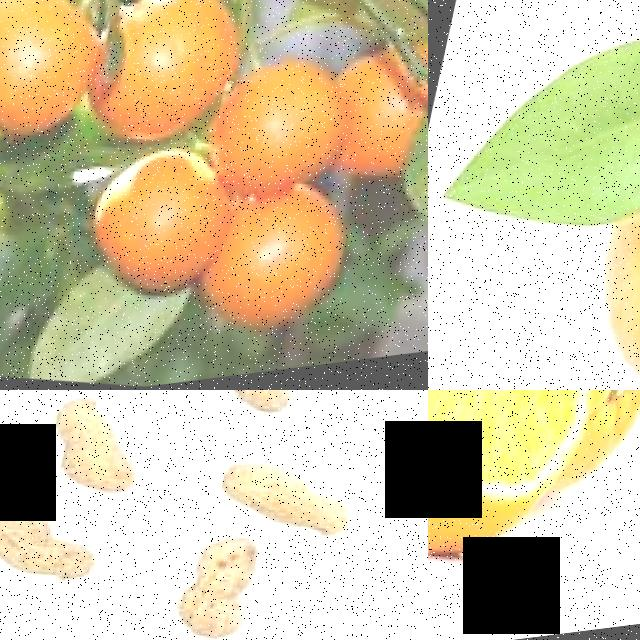orange: (428, 390, 618, 598), (84, 0, 257, 171), (81, 140, 237, 324), (200, 183, 361, 360), (223, 52, 368, 224), (0, 0, 114, 163), (337, 49, 428, 204), (570, 390, 640, 511)
peanuts: (210, 447, 376, 568), (39, 390, 165, 514), (0, 483, 114, 607), (168, 529, 273, 640), (220, 390, 321, 436)
